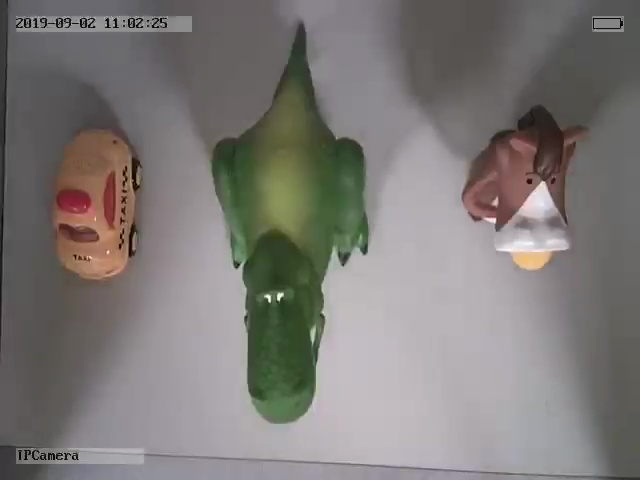car: (50, 127, 145, 282)
horse: (459, 102, 590, 274)
rex: (210, 20, 374, 425)
